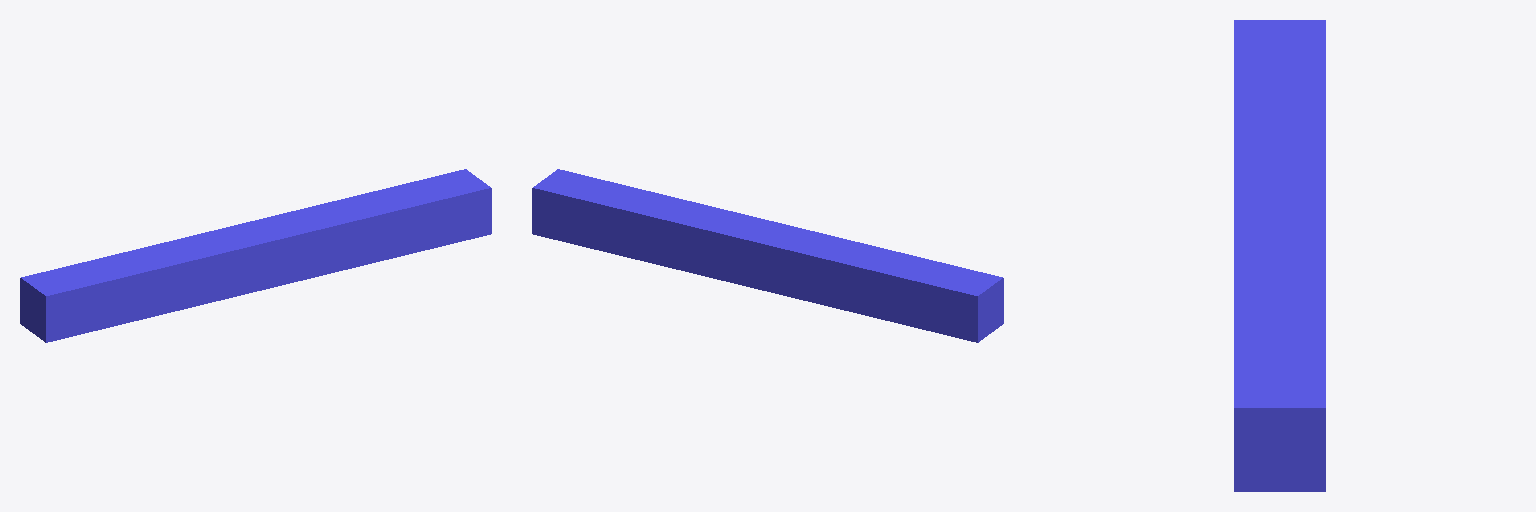
URDF robot description (block):
<robot name="block">
  <link name="block">
    <visual>
      <origin xyz="0 0 0"/>
      <geometry>
        <box size="0.6 0.060 0.060" />
      </geometry>
      <material name="red">
        <color rgba="0.4 0.4 1.0 1.0"/>
      </material>
    </visual>

    <collision>
      <origin xyz="0 0 0"/>
      <geometry>
        <box size="0.6 0.060 0.060" />
      </geometry>
    </collision>
<contact>
      <lateral_friction value="1.0"/>
      <rolling_friction value="0.0001"/>
      <inertia_scaling value="3.0"/>
    </contact>
    <inertial>
      <origin rpy="0 0 0" xyz="0 0 0"/>
       <mass value="0.1"/>
       <inertia ixx="1" ixy="0" ixz="0" iyy="1" iyz="0" izz="1"/>
    </inertial>
  </link>

</robot>

--- Facts derived from the render (not from the file) ---
Views: 3 orthographic renders of the robot side by side, from view 1: azimuth 30°, elevation 25°; view 2: azimuth 150°, elevation 25°; view 3: azimuth 270°, elevation 25°.
Model block with 1 links and 0 joints (none), rooted at block, posed all joints at 0.
Links seen in each view (by area): view 1: block; view 2: block; view 3: block.
Link boxes in pixels (bbox=[...]): block: bbox=[20, 169, 491, 342]; block: bbox=[532, 169, 1003, 342]; block: bbox=[1234, 20, 1325, 491].
Size in the robot's own frame: 0.6 by 0.06 by 0.06 metres.
Geometry: primitives only (box / cylinder / sphere), no mesh files.